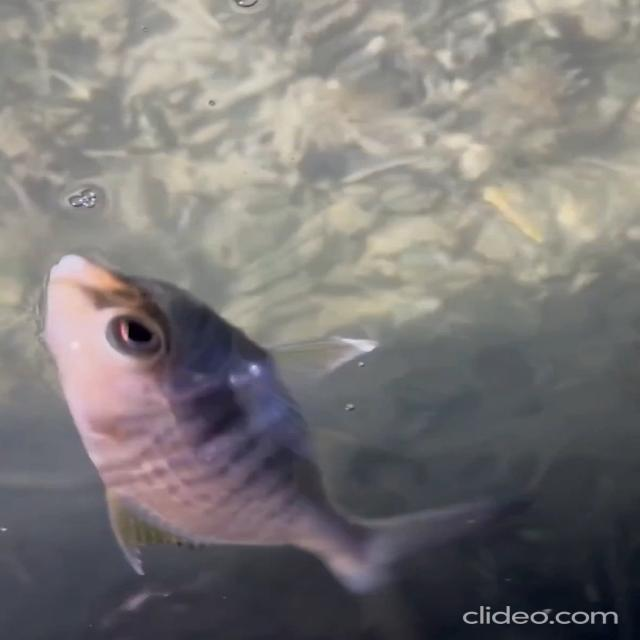fish: (36, 244, 535, 621)
